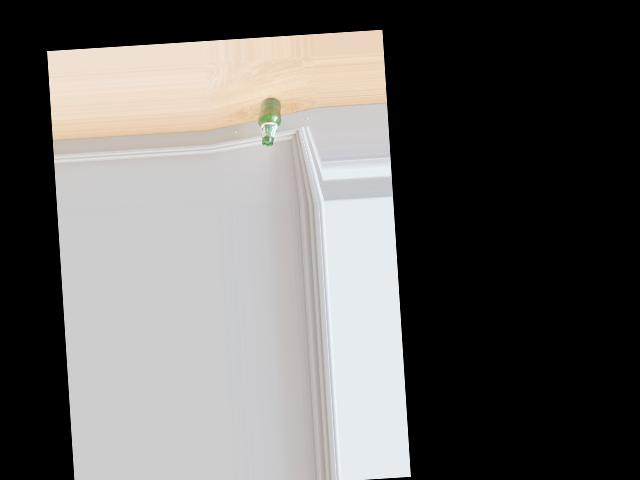beer: (256, 96, 283, 146)
